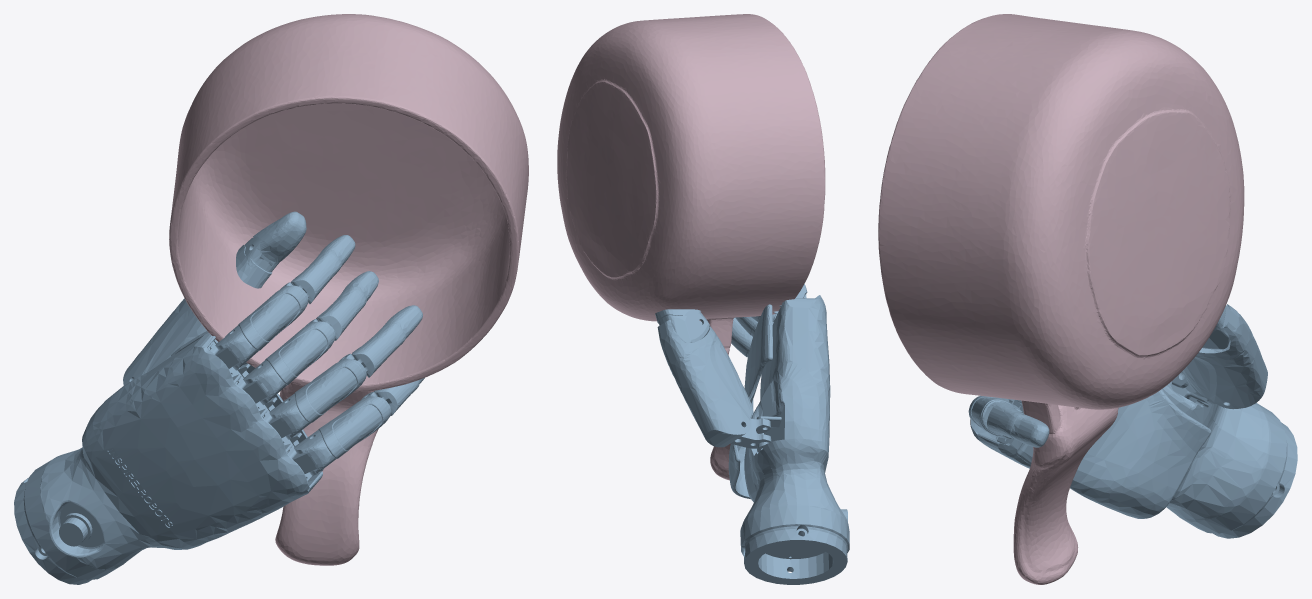
3 views of the same model, side by side, from view 1: azimuth 30°, elevation 25°; view 2: azimuth 150°, elevation 25°; view 3: azimuth 270°, elevation 25° (orthographic). The views are drawn at different scales.
Parts seen in each view (by area): view 1: obj_mesh_grasp_5.obj, world; view 2: obj_mesh_grasp_5.obj, world; view 3: obj_mesh_grasp_5.obj, world.
Boxes of the visible parts, left/top/right/bottom form: obj_mesh_grasp_5.obj: left=169, top=14, right=528, bottom=565; world: left=14, top=211, right=424, bottom=584; obj_mesh_grasp_5.obj: left=557, top=14, right=825, bottom=480; world: left=655, top=284, right=849, bottom=584; obj_mesh_grasp_5.obj: left=878, top=14, right=1244, bottom=584; world: left=968, top=304, right=1297, bottom=538.
Bounding box in the file's own units: 0.2069 × 0.262 × 0.1664.
